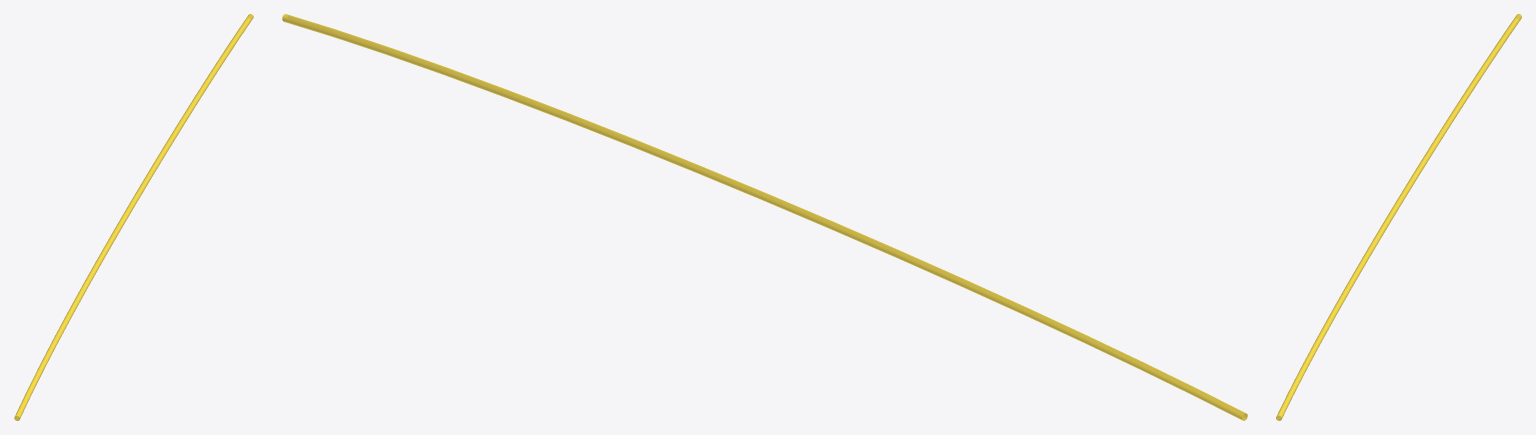
Rendered from Event_27938768_track_36.fbx.
3 views of the same model, side by side, from view 1: azimuth 90°, elevation 25°; view 2: azimuth 150°, elevation 25°; view 3: azimuth 270°, elevation 25° (orthographic). The views are drawn at different scales.
Visible parts, largest first — view 1: Model; view 2: Model; view 3: Model.
Part boxes in pixels (left/top/right/bottom): Model: left=14, top=14, right=253, bottom=420; Model: left=282, top=14, right=1247, bottom=420; Model: left=1276, top=14, right=1521, bottom=420.
Bounding box in the file's own units: 6.41 × 0.176 × 1.63.
